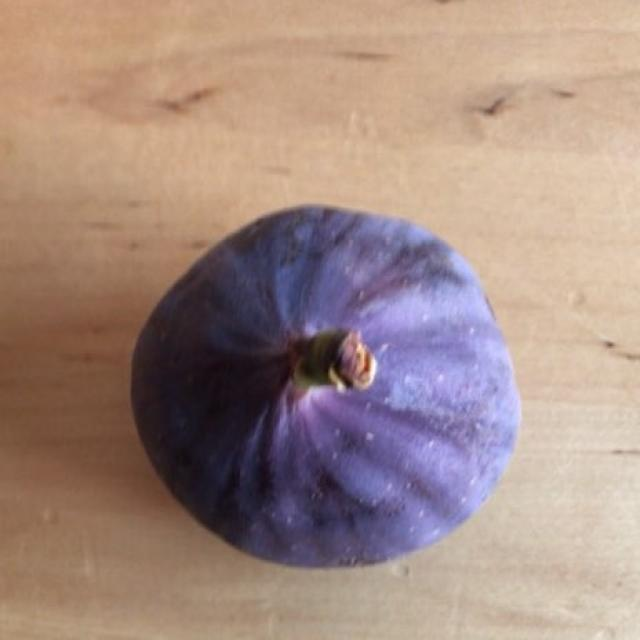figs: (130, 213, 510, 568)
